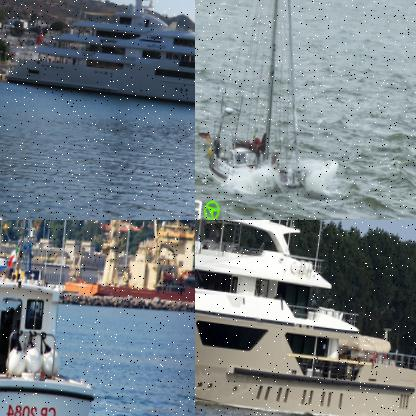Patrol Boat: (0, 220, 129, 415)
Sails Boat: (195, 0, 339, 197)
Yacht: (195, 220, 415, 415), (3, 0, 194, 125)
